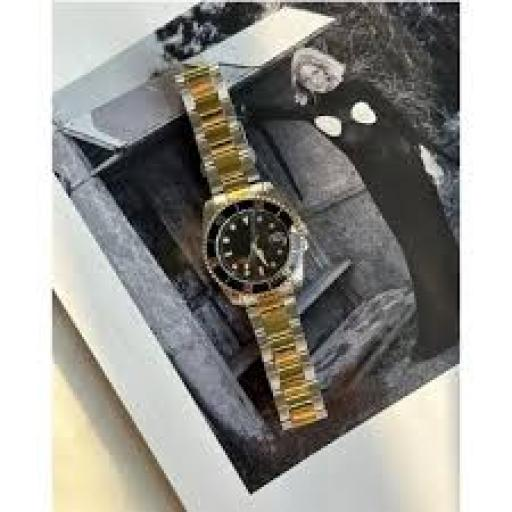KolSaati: (150, 43, 354, 437)
